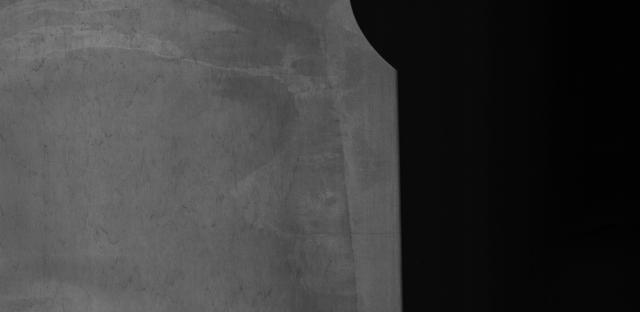crescent_gap: (342, 0, 414, 78)
